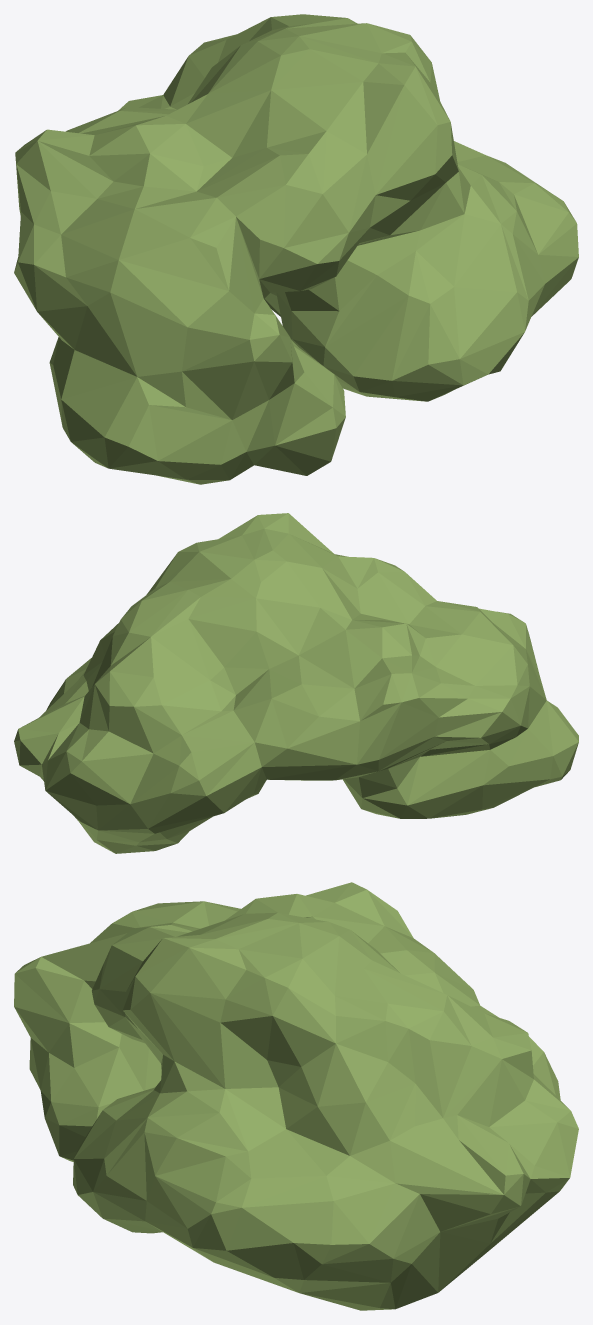
File: tree3leaves.fbx
The picture shows the model from 3 angles, top to bottom: view 1: azimuth 30°, elevation 25°; view 2: azimuth 150°, elevation 25°; view 3: azimuth 270°, elevation 25°; orthographic projection. The views are drawn at different scales.
Visible parts, largest first — view 1: polySurface2; view 2: polySurface2; view 3: polySurface2.
Boxes of the visible parts, left/top/right/bottom form: polySurface2: left=14, top=14, right=578, bottom=484; polySurface2: left=14, top=513, right=578, bottom=853; polySurface2: left=14, top=882, right=578, bottom=1310.
Size of the model in its own units: 29 by 17.61 by 27.74.
